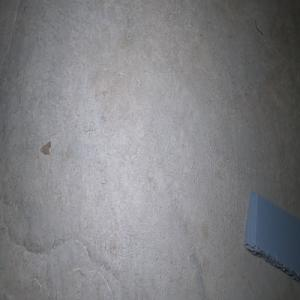PlasticPart: (243, 190, 300, 282)
